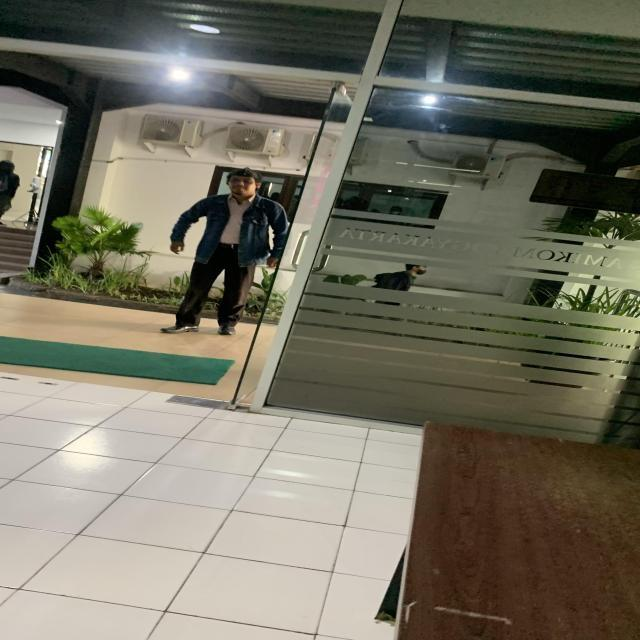hairnet: (224, 167, 266, 197)
